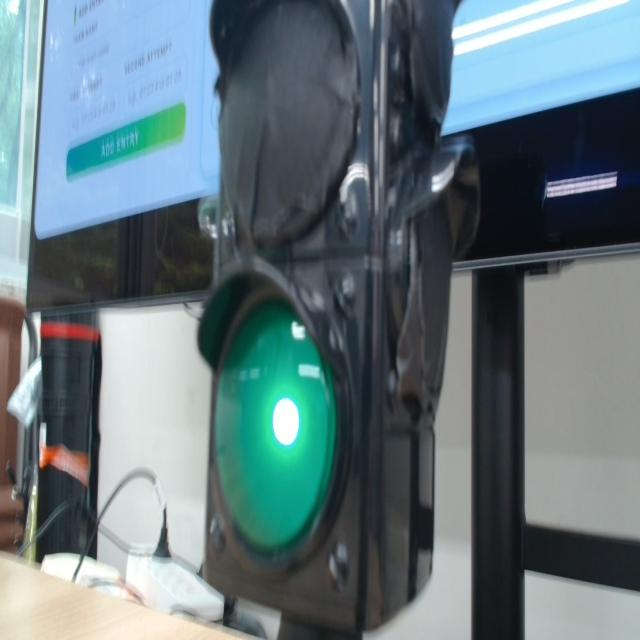green_light: (215, 302, 336, 553), (273, 399, 299, 446)
